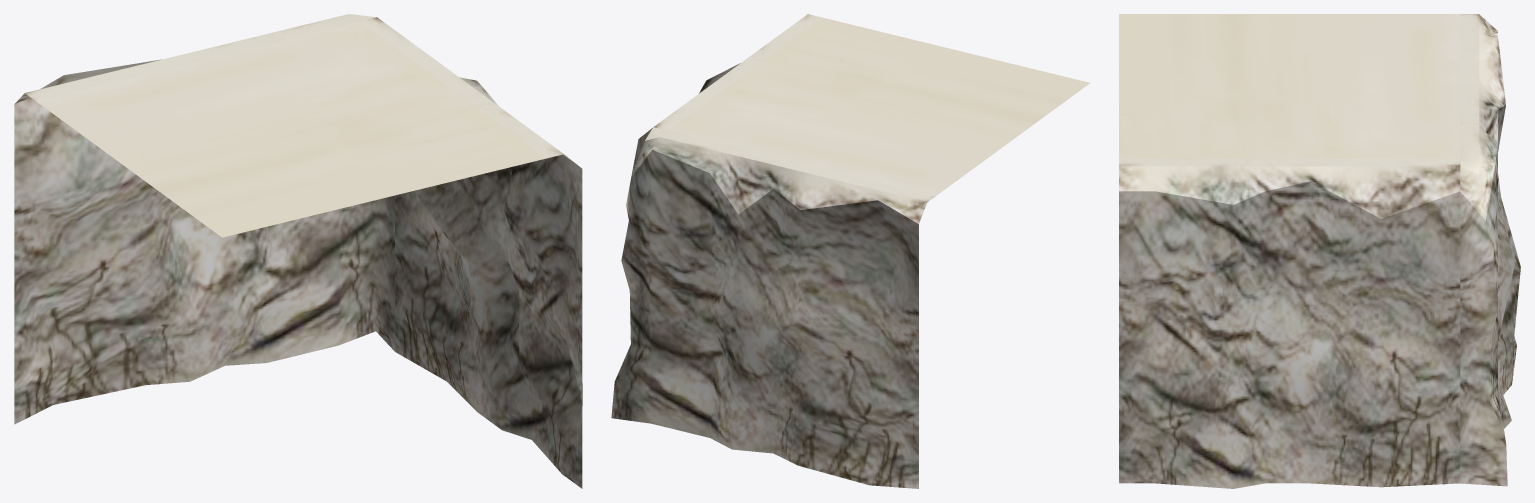
File: TDBlock3.fbx
The picture shows the model from 3 angles, left to right: view 1: azimuth 30°, elevation 25°; view 2: azimuth 150°, elevation 25°; view 3: azimuth 270°, elevation 25°; orthographic projection. The views are drawn at different scales.
Parts seen in each view (by area): view 1: pCube30; view 2: pCube30; view 3: pCube30.
Part boxes in pixels (x1,y1,x2,y2): pCube30: (14, 14, 582, 488); pCube30: (611, 14, 1089, 488); pCube30: (1119, 14, 1520, 488).
Size of the model in its own units: 25.22 by 21.48 by 25.3.
